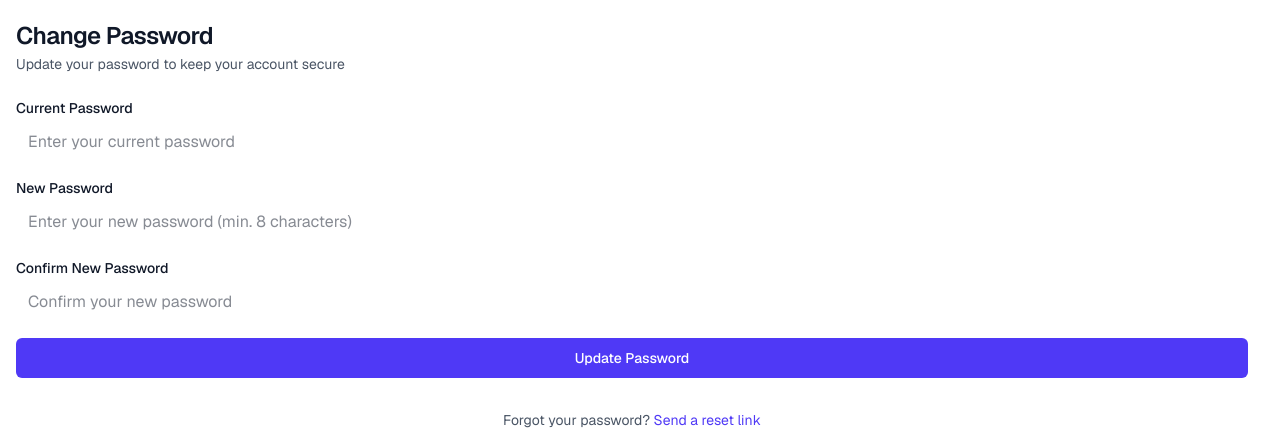
Test: ProfilePasswordUpdateClient › should show error when new password is missing
This screenshot has width=1272, height=447.
Type "OldPassword123!" into the password field labelled "Current Password".
click(632, 142); type("OldPassword123!")  # box [16,122,1248,162]
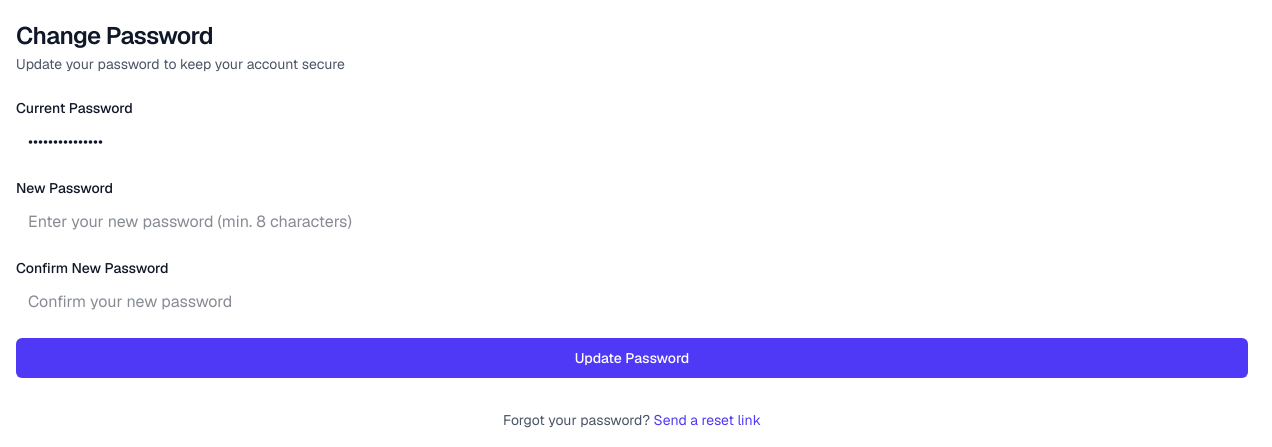
Submit the form "Update Password"
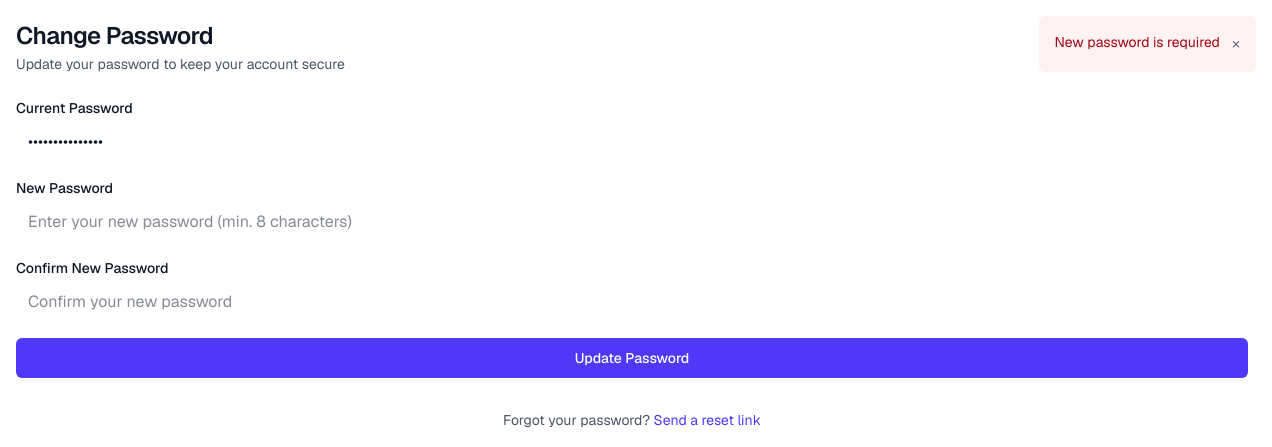
Now the text "New password is required" is shown, box [1055,32,1220,52]
